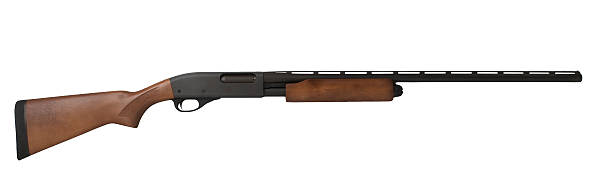shotgun: (12, 59, 587, 162)
